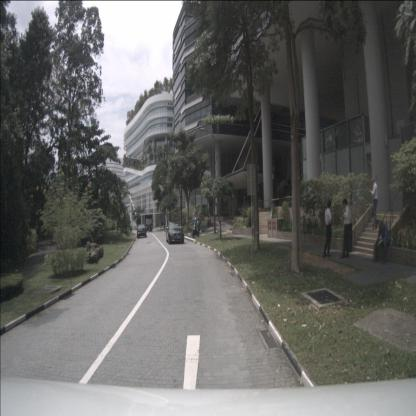human-pedestrian-adult: (374, 219, 390, 265), (340, 198, 350, 258), (368, 176, 378, 230), (323, 200, 332, 257), (170, 217, 172, 231)
vehicle-car: (166, 222, 184, 244), (137, 224, 147, 239), (144, 218, 153, 232)
vehicle-motorcycle: (192, 218, 201, 238)
